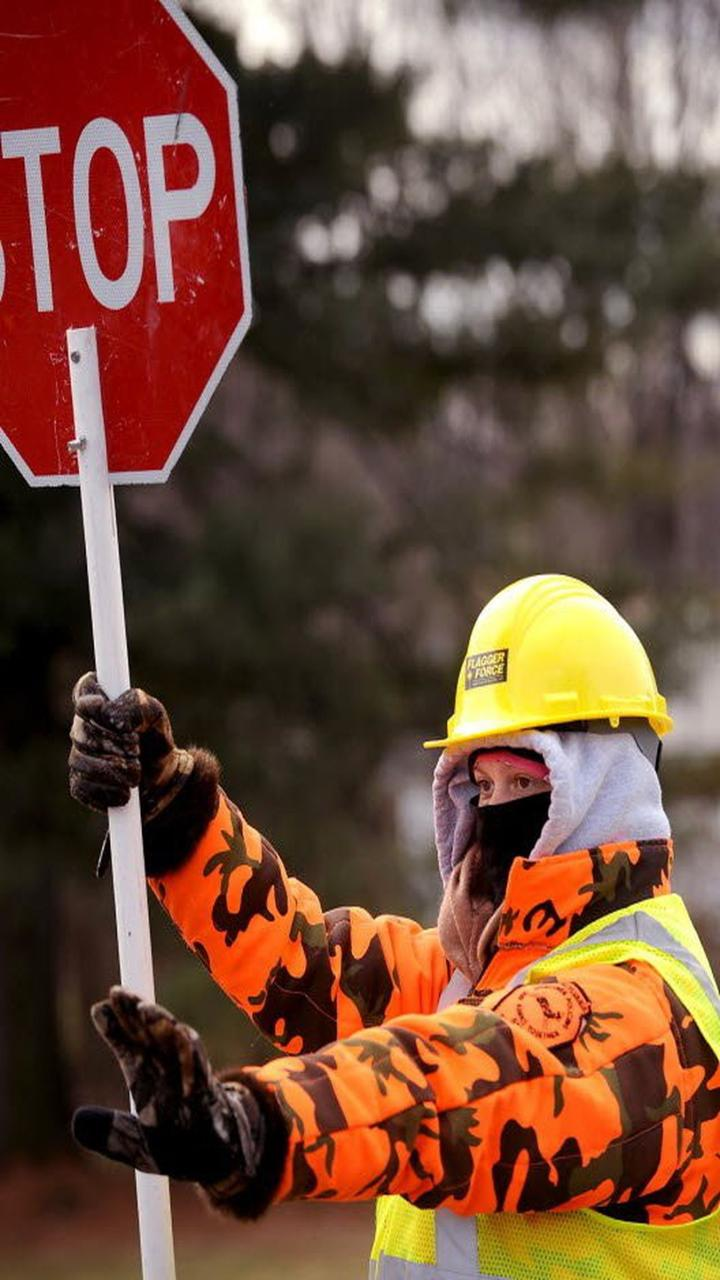Traffic sign: (1, 1, 330, 499)
pedestrian: (58, 559, 720, 1280)
